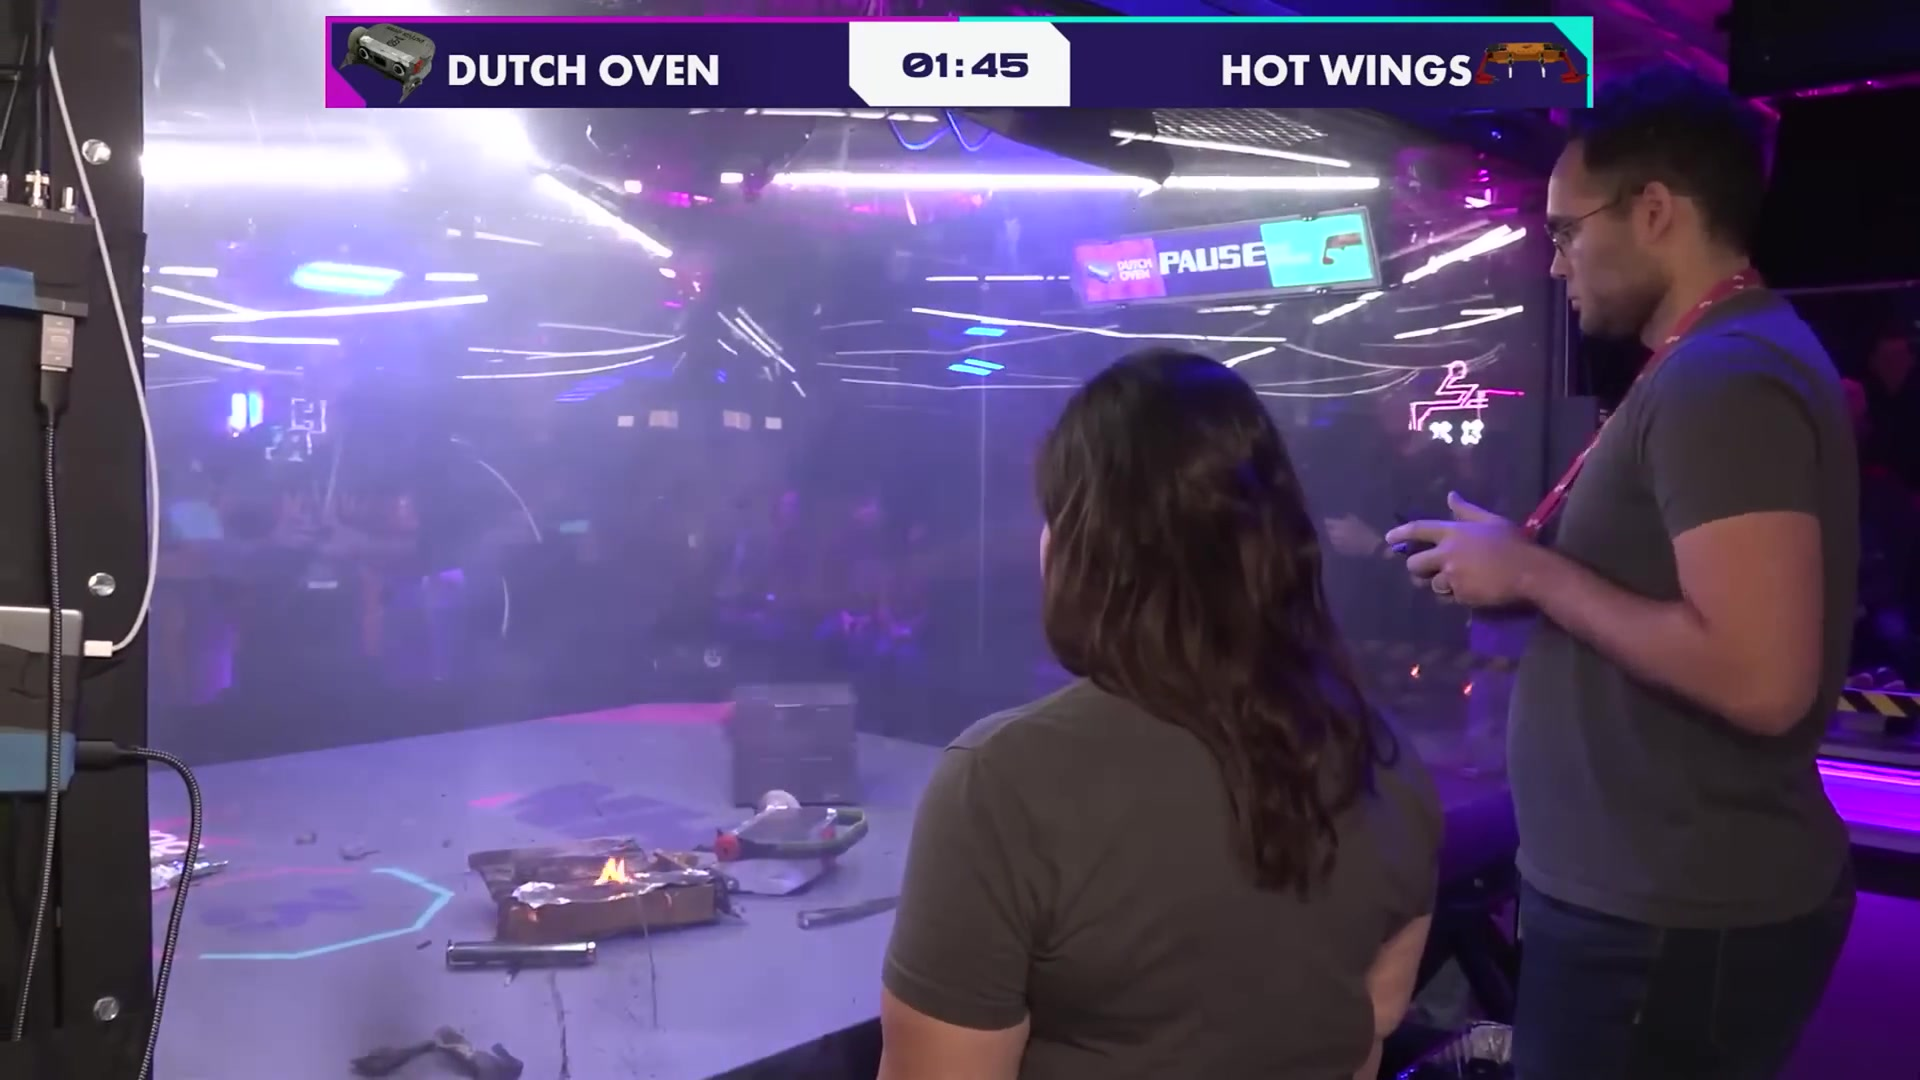combatbot: (473, 839, 736, 944), (703, 790, 869, 893)
debris: (359, 1025, 522, 1079), (150, 823, 225, 891)
housebot: (729, 687, 862, 799)
